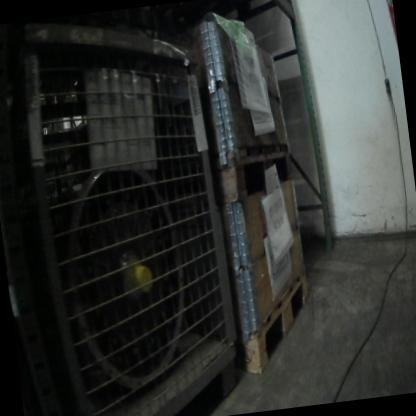pallet: (217, 266, 327, 384), (202, 132, 298, 205)
stillage: (0, 11, 252, 416)
